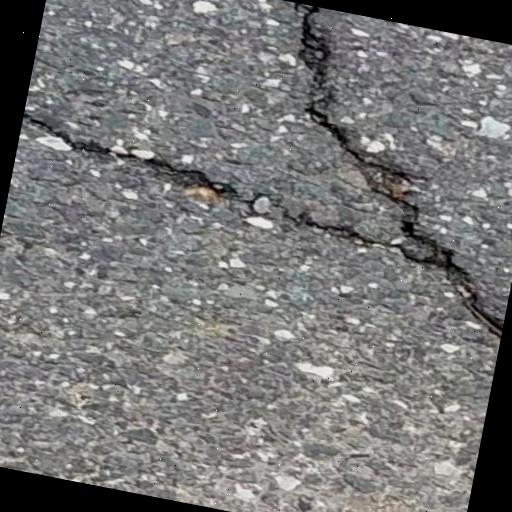spalling: (291, 14, 505, 346), (22, 115, 380, 258)
